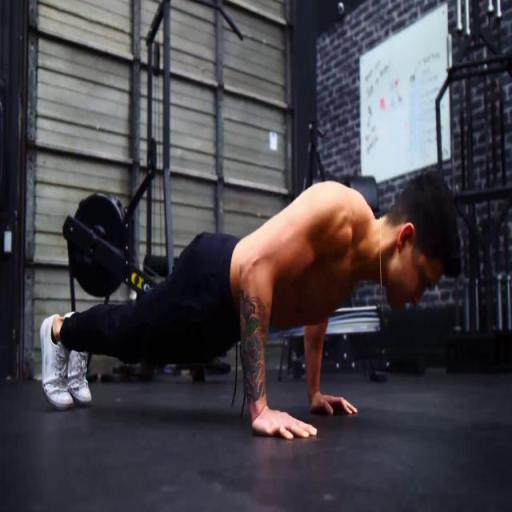Normal_BrenchPress: (41, 172, 464, 442)
